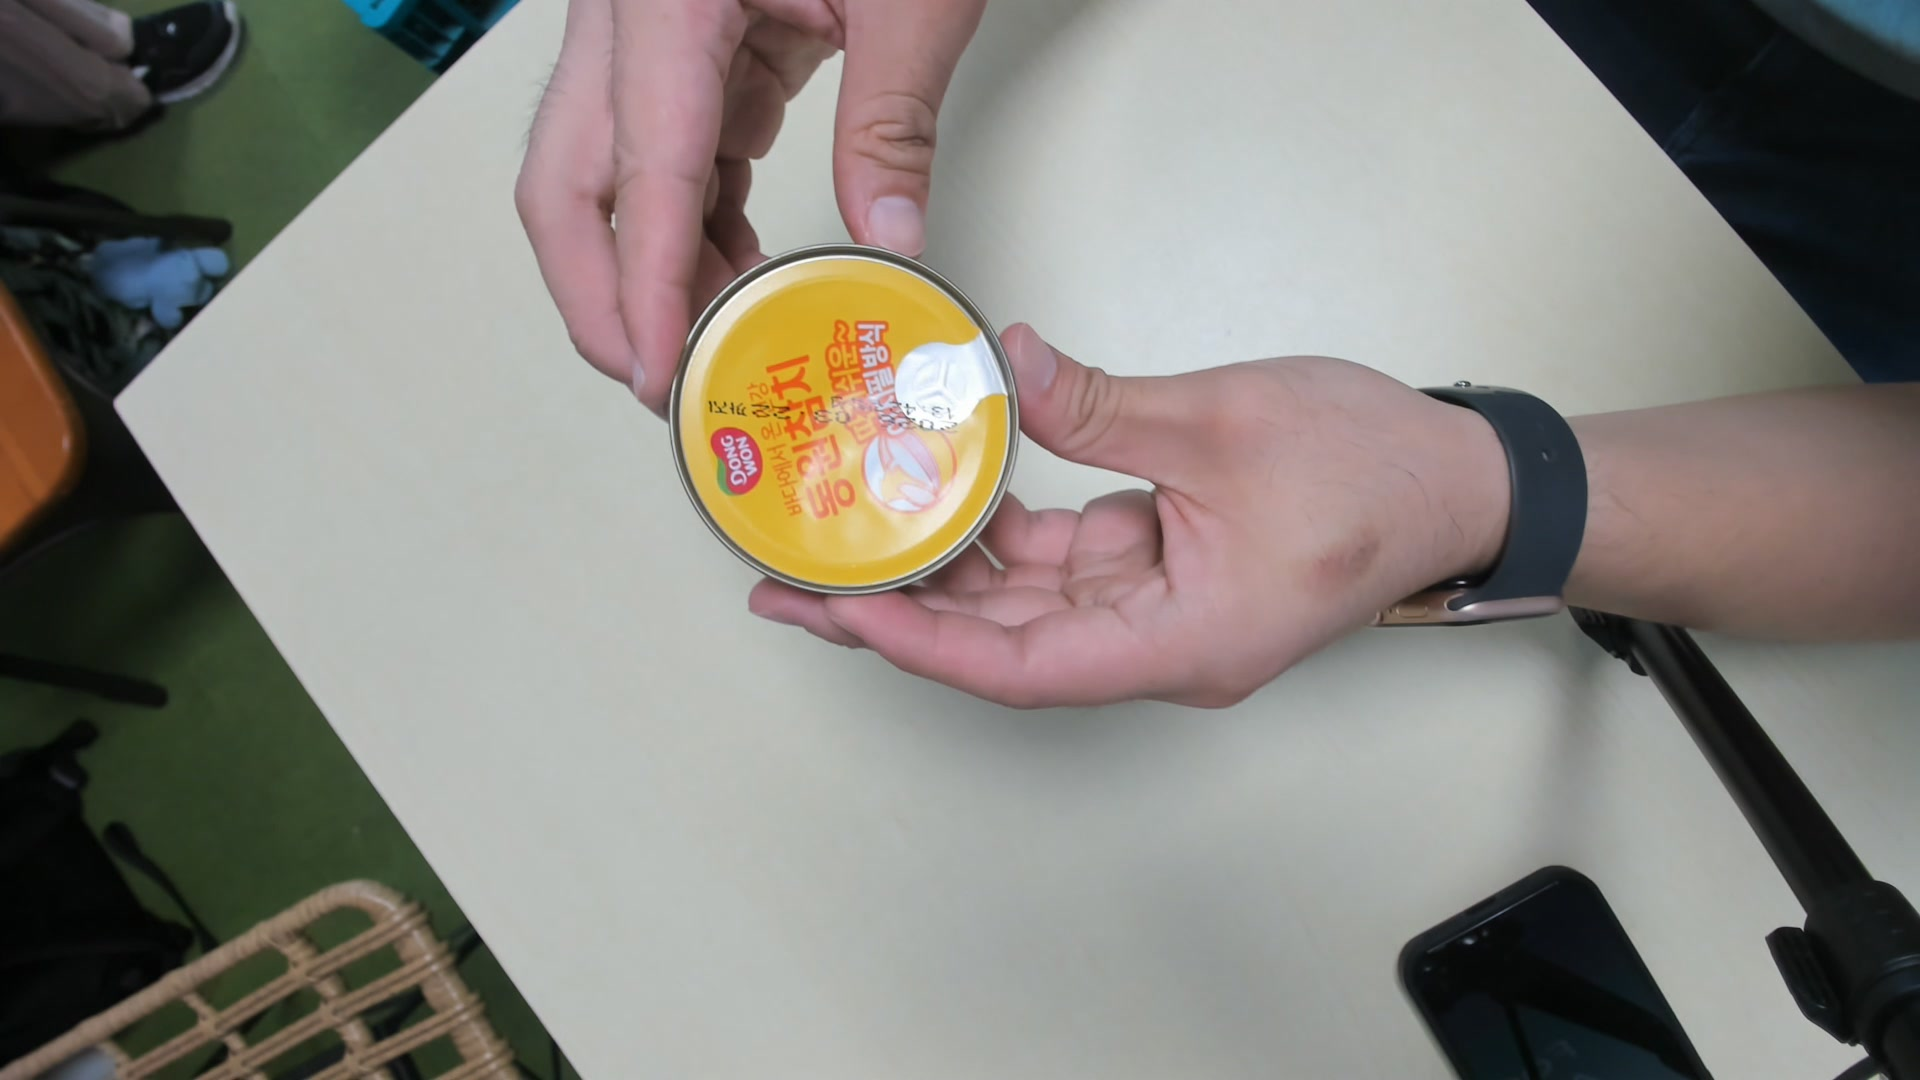OtherSauceDressing_0-99g_NonHalal_NonHealthy: (673, 245, 1015, 589)
